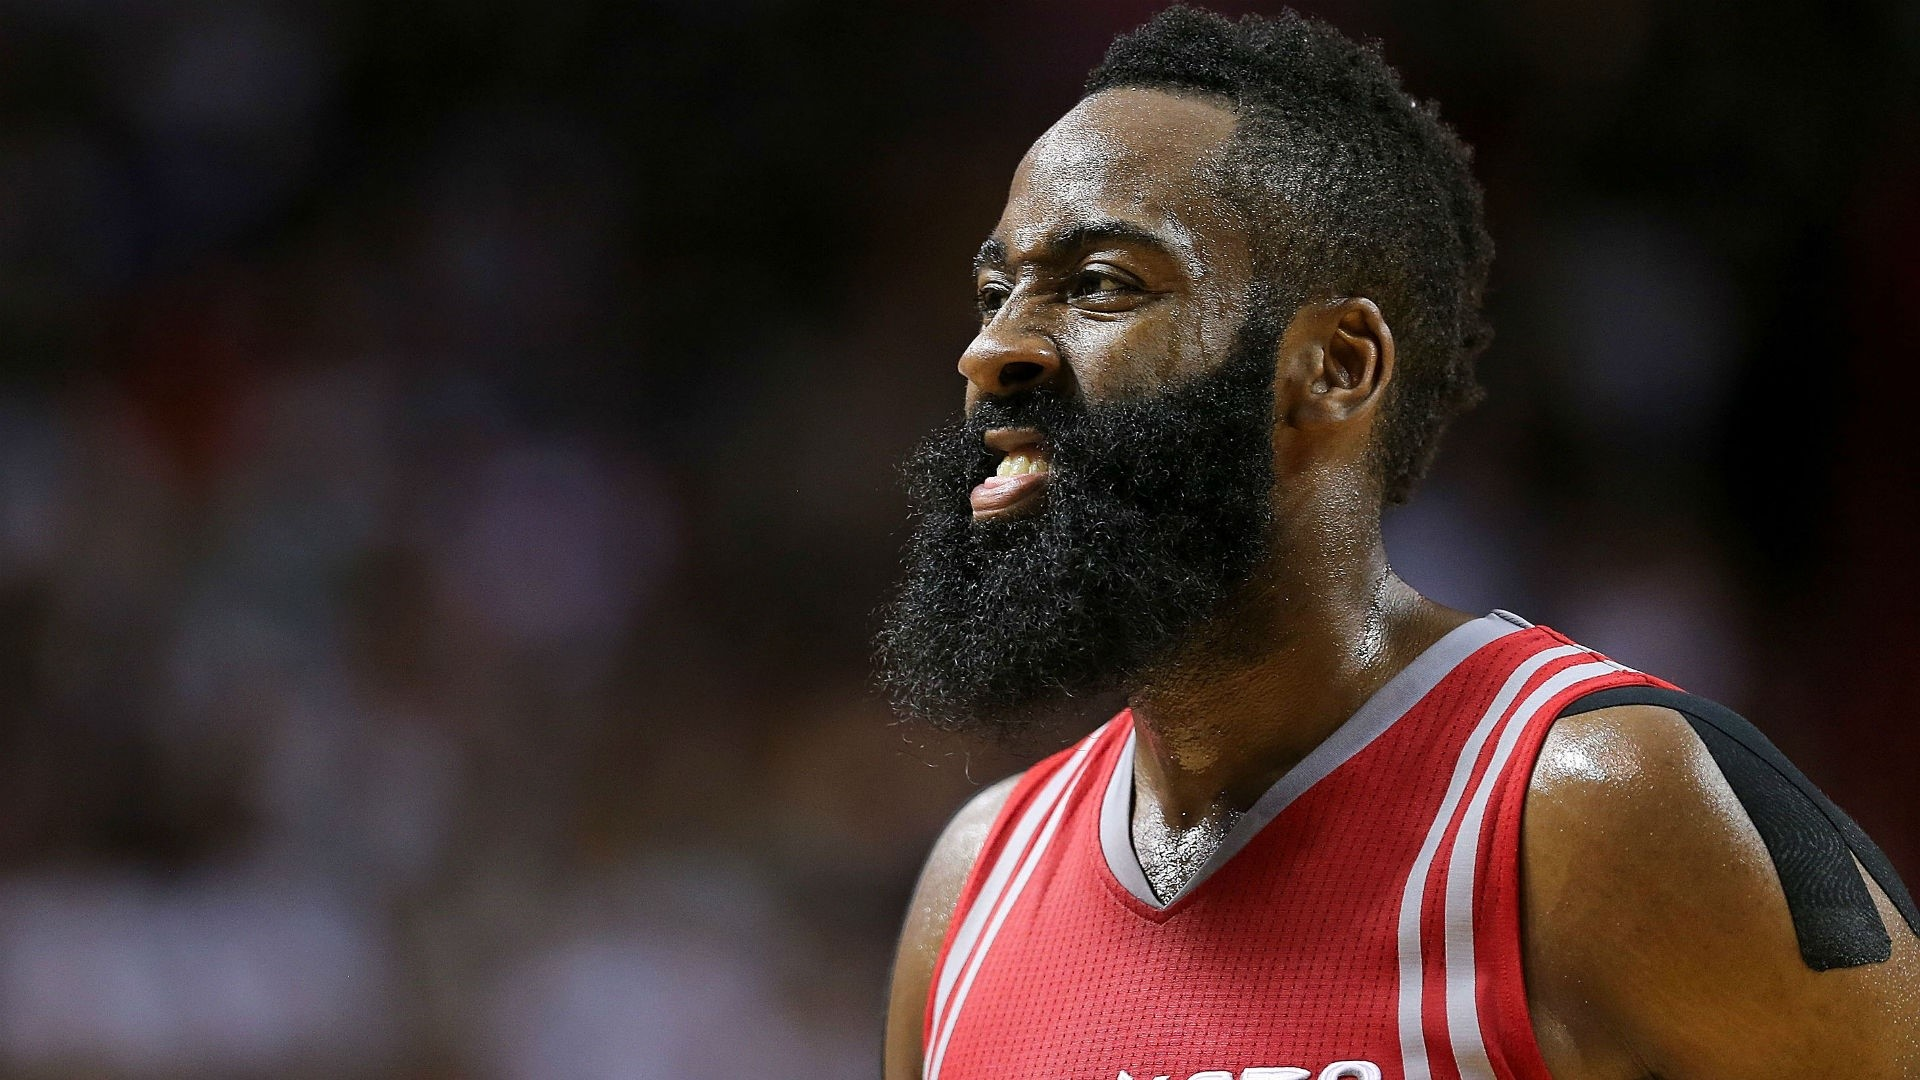face_no_mask: (915, 78, 1419, 742)
